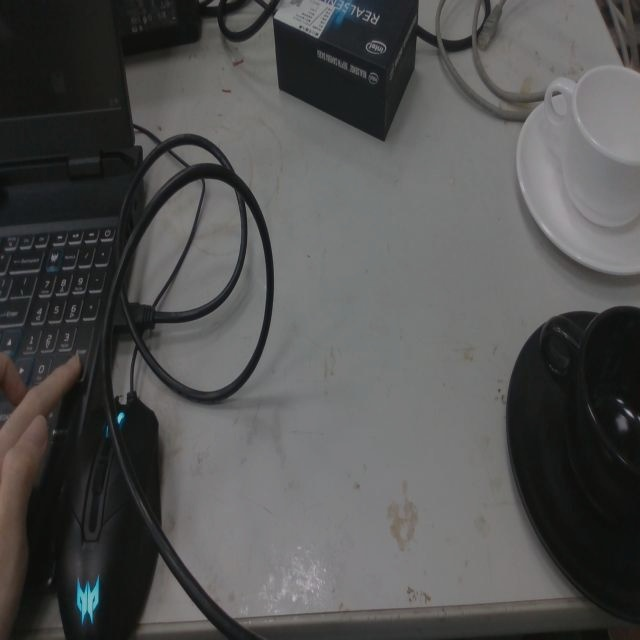black: (502, 300, 640, 631)
white: (513, 58, 640, 282)
